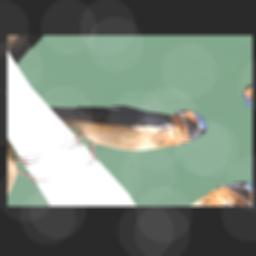Swallow: (37, 64, 215, 179)
